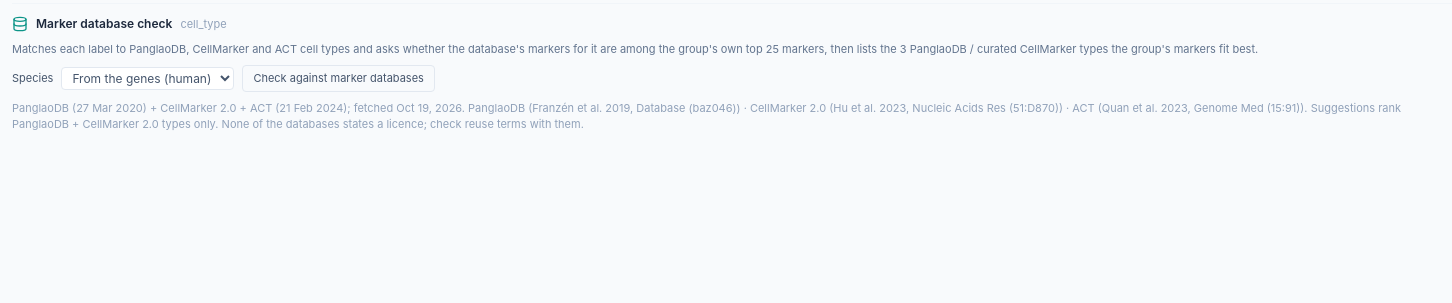
Test: MarkerDbCheck › checks the column and shows verdicts, matches and suggestions
This screenshot has width=1452, height=303.
Expected: the element with test id "marker-db-source" shows "PanglaoDB (27 Mar 2020)", x1=12 y1=100 x2=462 y2=114
Expected: the element with test id "marker-db-source" shows "Suggestions rank PanglaoDB + CellMarker 2.0 types only", x1=12 y1=100 x2=1451 y2=132
Click the button "Check against marker databases" at (339, 78), box x1=242 y1=65 x2=435 y2=92
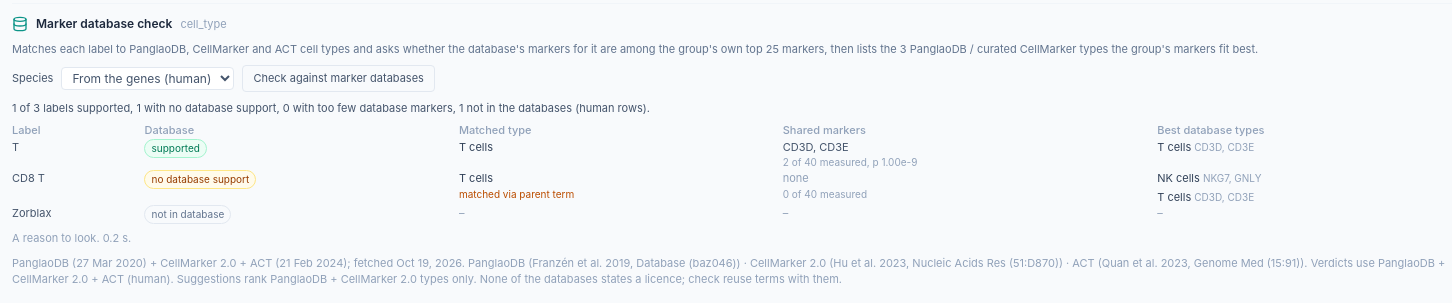
Result: the element with test id "marker-db-result" is shown at x1=12 y1=100 x2=1451 y2=246
Result: the row that starts with "supported" shows "CD3D, CD3E" at x1=783 y1=140 x2=849 y2=154
Result: the row that starts with "CD8 T" shows "matched via parent term" at x1=459 y1=188 x2=574 y2=200
